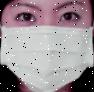with_mask: (1, 1, 94, 92)
